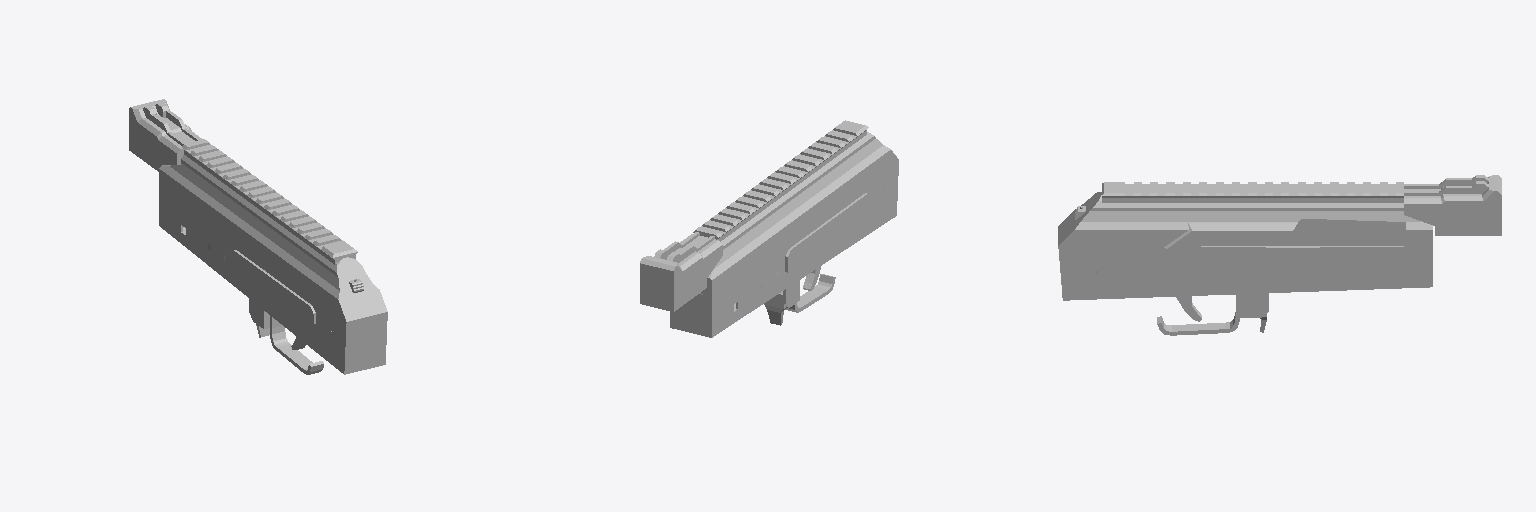
The model's file is Reciever.obj.
3 views of the same model, side by side, from view 1: azimuth 30°, elevation 25°; view 2: azimuth 150°, elevation 25°; view 3: azimuth 270°, elevation 25° (orthographic).
Visible parts, largest first — view 1: Cube.001_Cube.003; view 2: Cube.001_Cube.003; view 3: Cube.001_Cube.003.
Boxes of the visible parts, <box> form: Cube.001_Cube.003: <box>129,99,387,374</box>; Cube.001_Cube.003: <box>640,120,898,337</box>; Cube.001_Cube.003: <box>1058,175,1501,335</box>.
Bounding box in the file's own units: 0.059 × 0.1887 × 0.497.